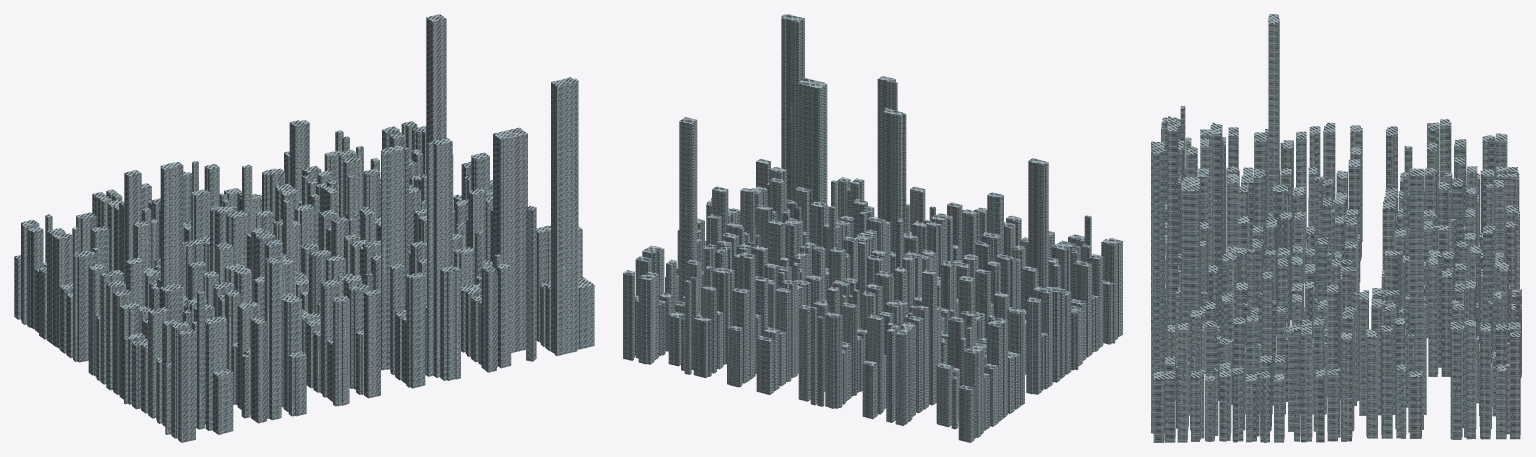
File: city_assets2.glb
The picture shows the model from 3 angles, left to right: view 1: azimuth 30°, elevation 25°; view 2: azimuth 150°, elevation 25°; view 3: azimuth 270°, elevation 25°; orthographic projection. The views are drawn at different scales.
Visible parts, largest first — view 1: Buildings.001; view 2: Buildings.001; view 3: Buildings.001.
Boxes of the visible parts, bbox=[...] form: Buildings.001: bbox=[14, 14, 594, 442]; Buildings.001: bbox=[623, 14, 1122, 442]; Buildings.001: bbox=[1151, 14, 1521, 442].
Bounding box in the file's own units: 580 × 362 × 432.
1 material, 1 textured.
